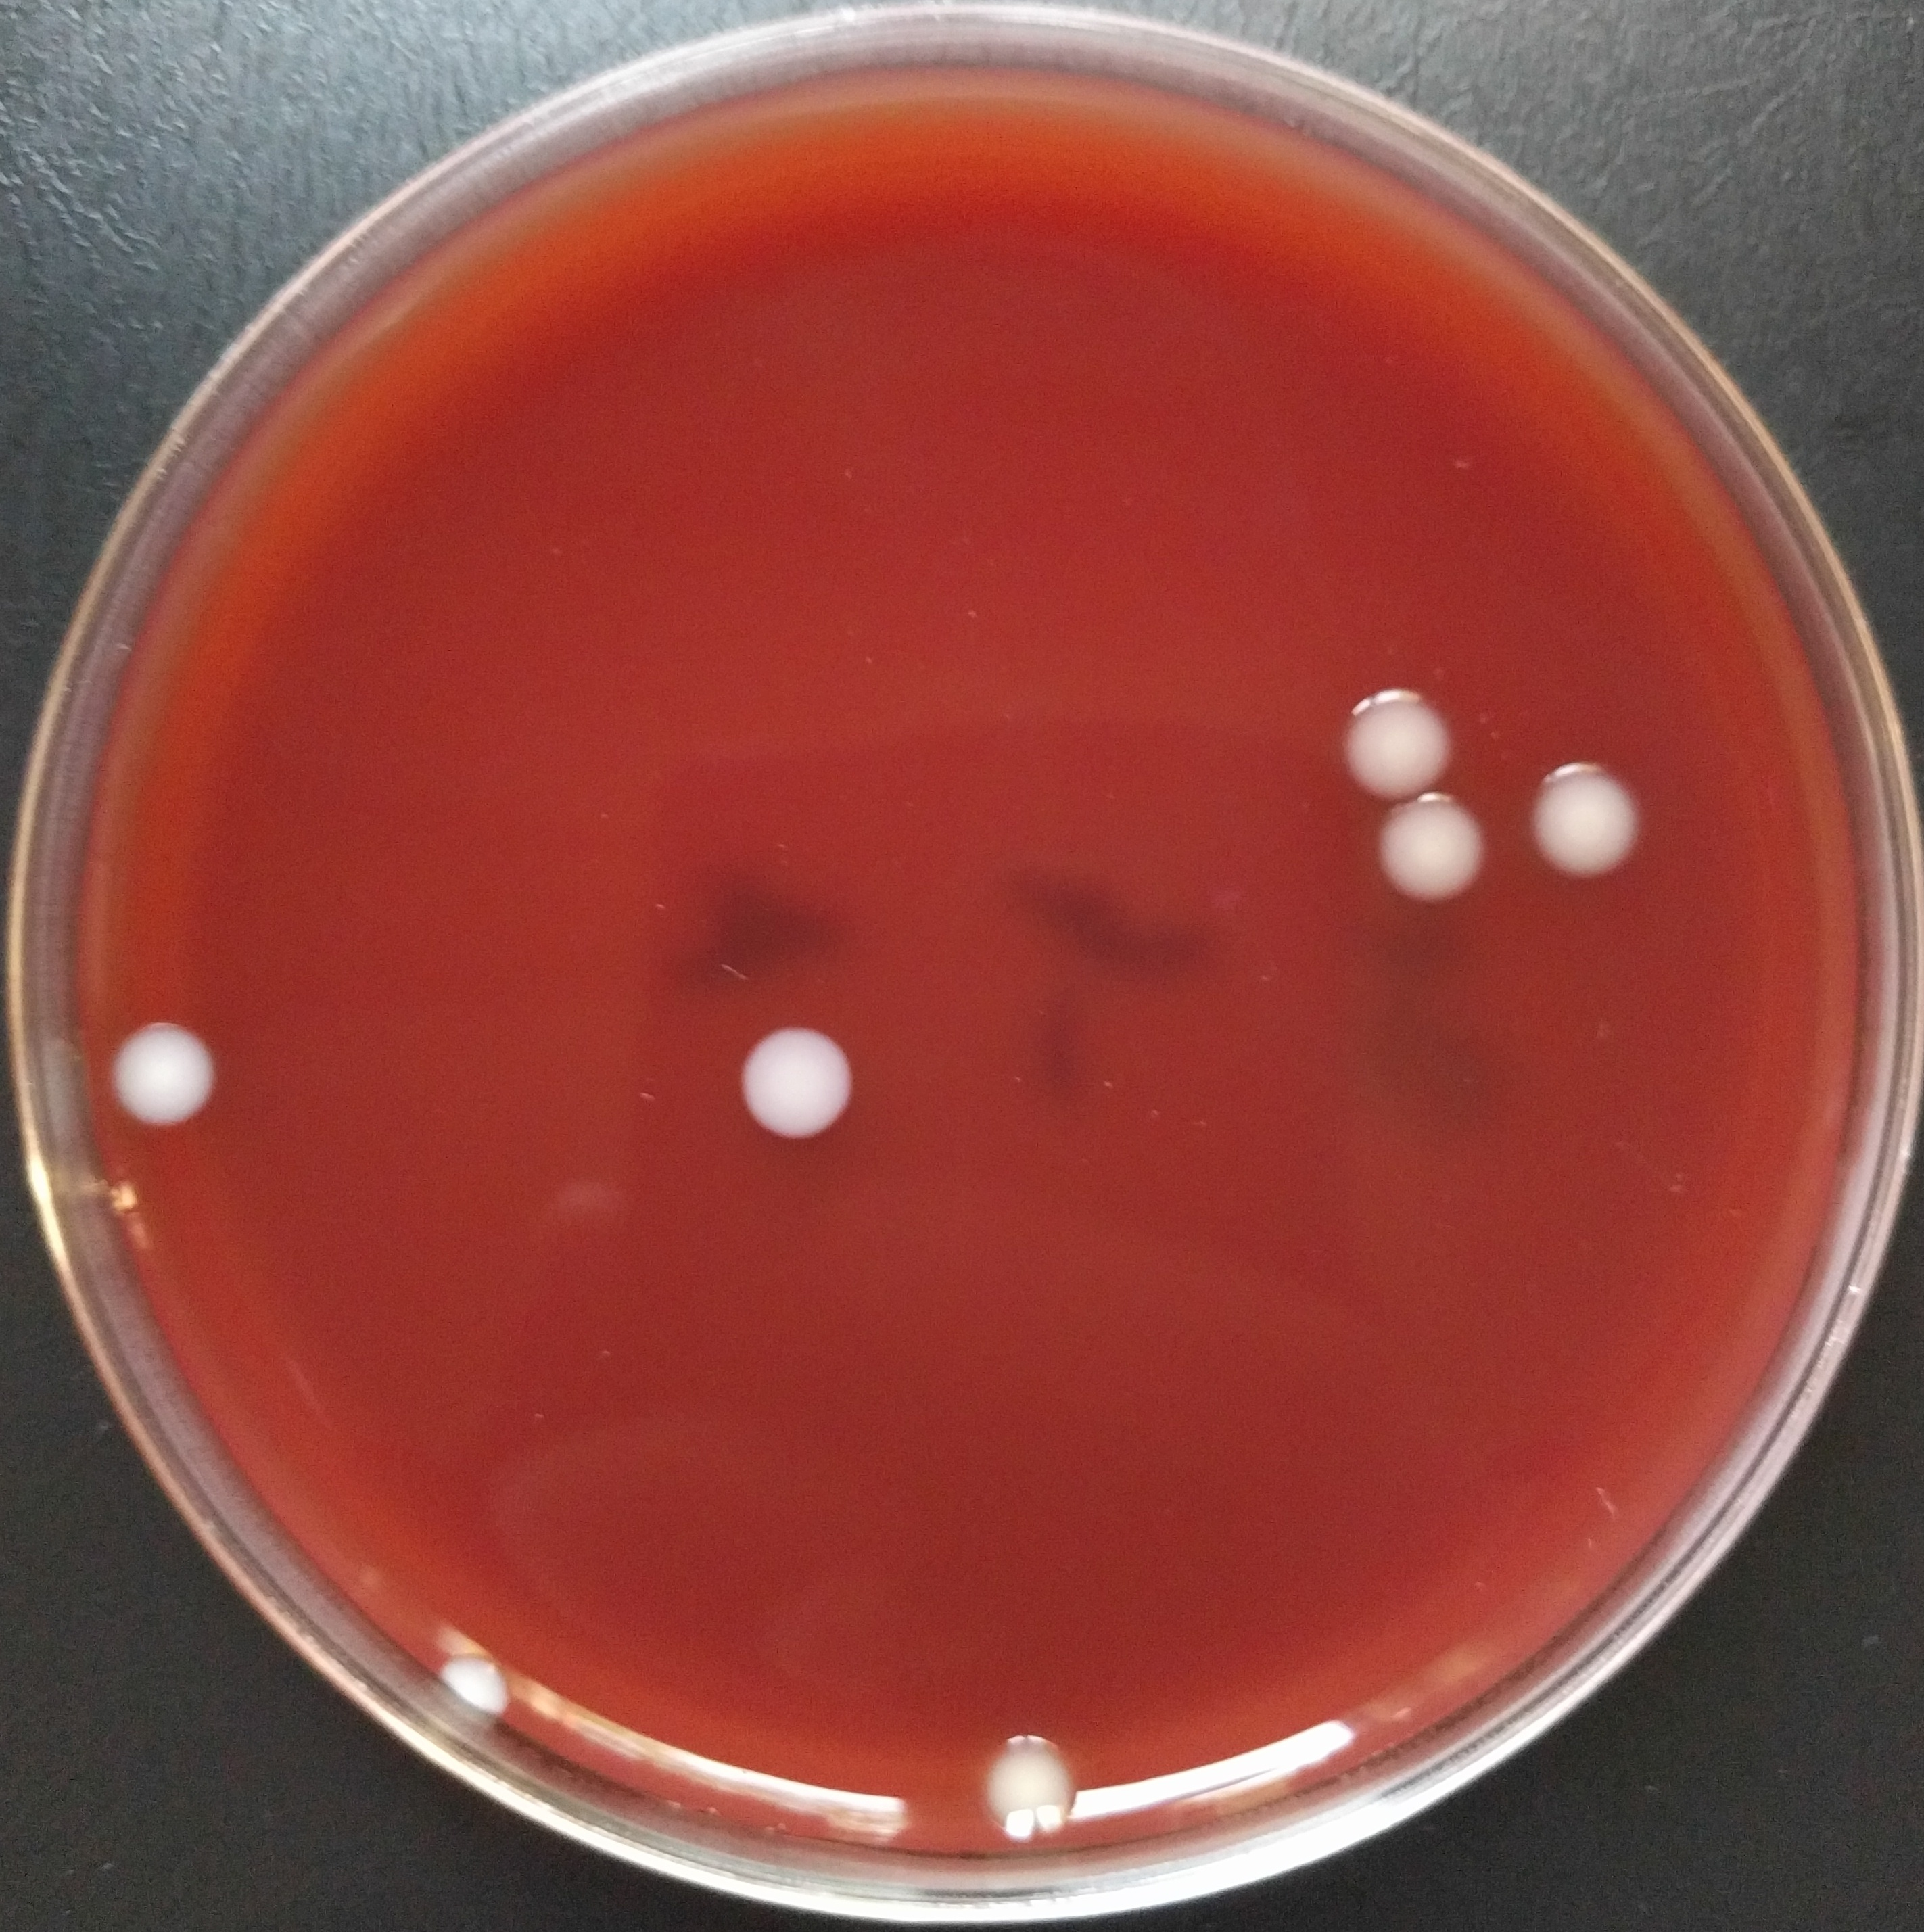sp03: (1524, 756, 1651, 903), (724, 1016, 865, 1147), (107, 1007, 240, 1143), (1378, 787, 1492, 918), (1343, 680, 1466, 794), (974, 1726, 1084, 1842), (412, 1626, 530, 1729)
